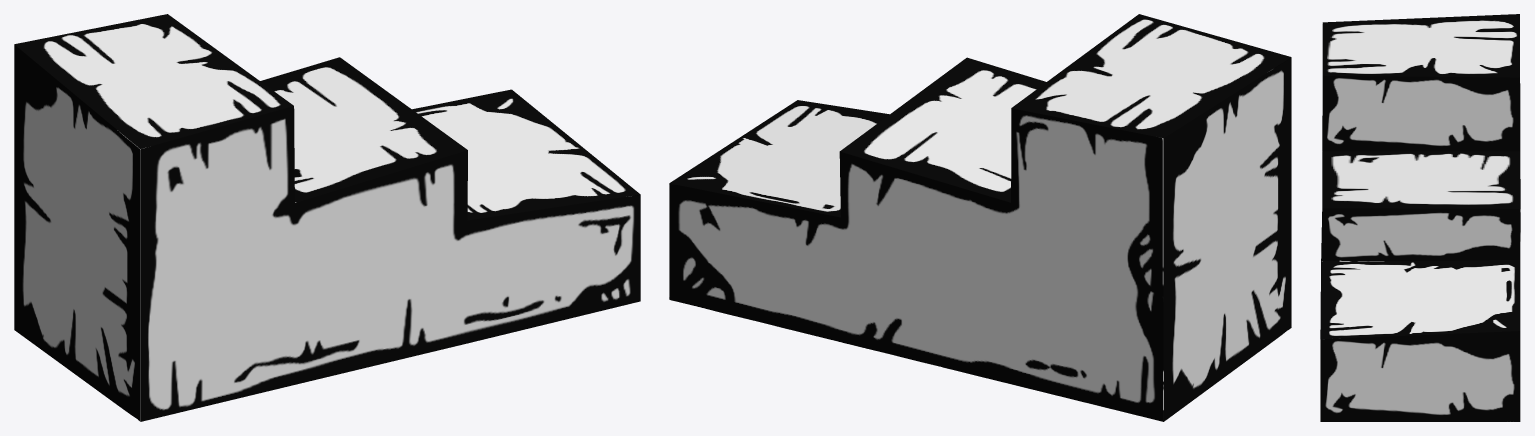
The model's file is Stairs_Textured_90_Embeded.fbx.
3 views of the same model, side by side, from view 1: azimuth 30°, elevation 25°; view 2: azimuth 150°, elevation 25°; view 3: azimuth 270°, elevation 25° (orthographic). The views are drawn at different scales.
Parts seen in each view (by area): view 1: Stufe 1.001; view 2: Stufe 1.001; view 3: Stufe 1.001.
Boxes of the visible parts, left/top/right/bottom form: Stufe 1.001: left=14, top=14, right=640, bottom=421; Stufe 1.001: left=669, top=14, right=1291, bottom=421; Stufe 1.001: left=1320, top=14, right=1520, bottom=421.
Size of the model in its own units: 107 by 58.6 by 48.07.
Materials: 1 (1 with a texture image).
